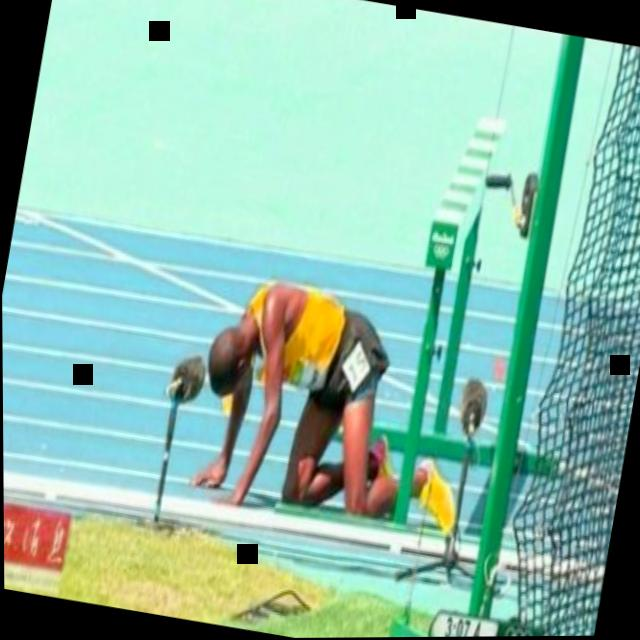Fall-Detected: (167, 238, 500, 554)
